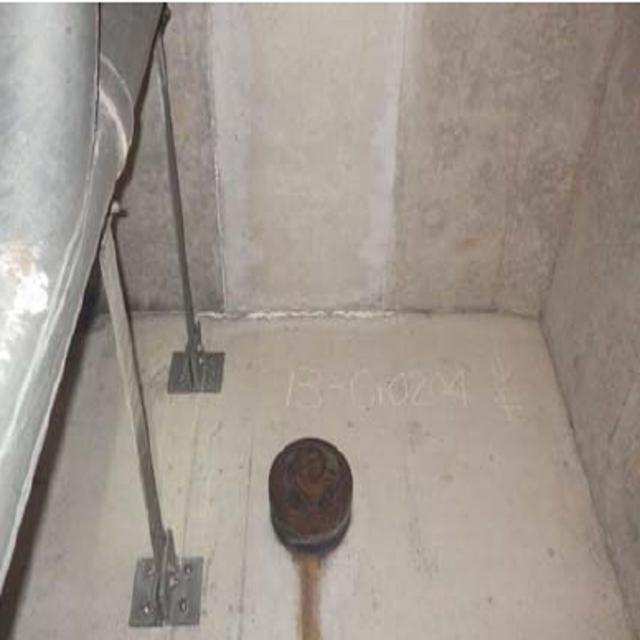leakage: (263, 521, 361, 640)
